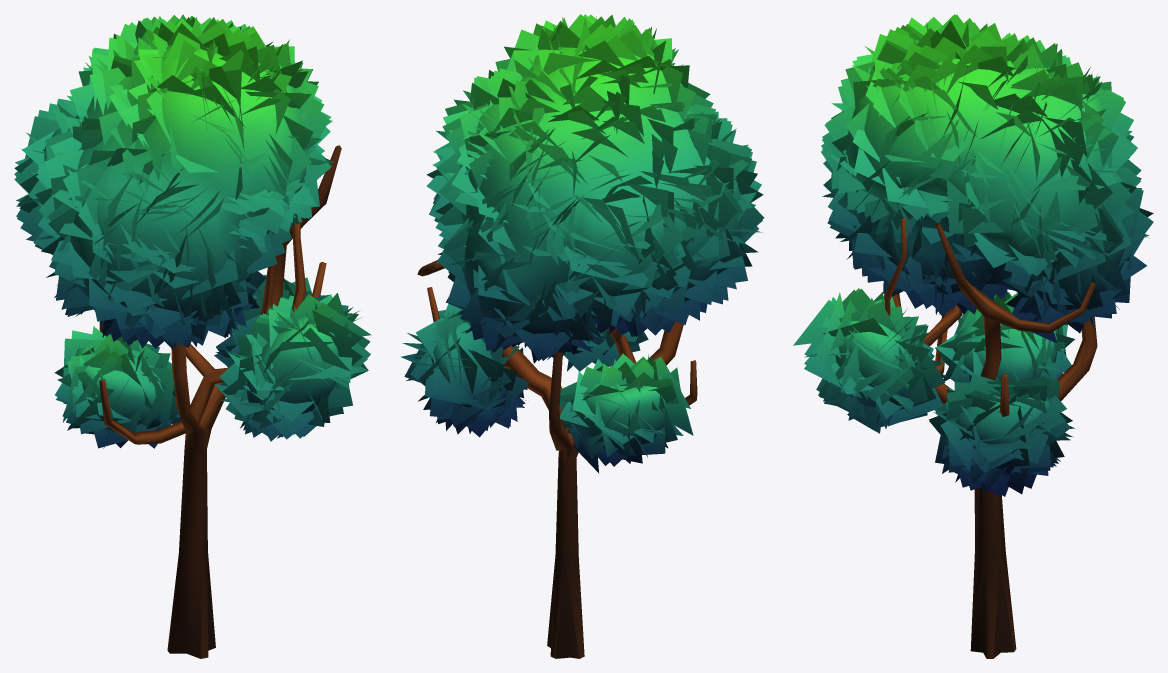
The model's file is Forest_Tree_6C.fbx.
3 views of the same model, side by side, from view 1: azimuth 30°, elevation 25°; view 2: azimuth 150°, elevation 25°; view 3: azimuth 270°, elevation 25° (orthographic). The views are drawn at different scales.
Visible parts, largest first — view 1: Forest_Tree_6C; view 2: Forest_Tree_6C; view 3: Forest_Tree_6C.
Part boxes in pixels (left/top/right/bottom): Forest_Tree_6C: left=14, top=14, right=371, bottom=658; Forest_Tree_6C: left=401, top=14, right=764, bottom=658; Forest_Tree_6C: left=793, top=14, right=1153, bottom=658.
Size of the model in its own units: 476 by 897 by 476.
